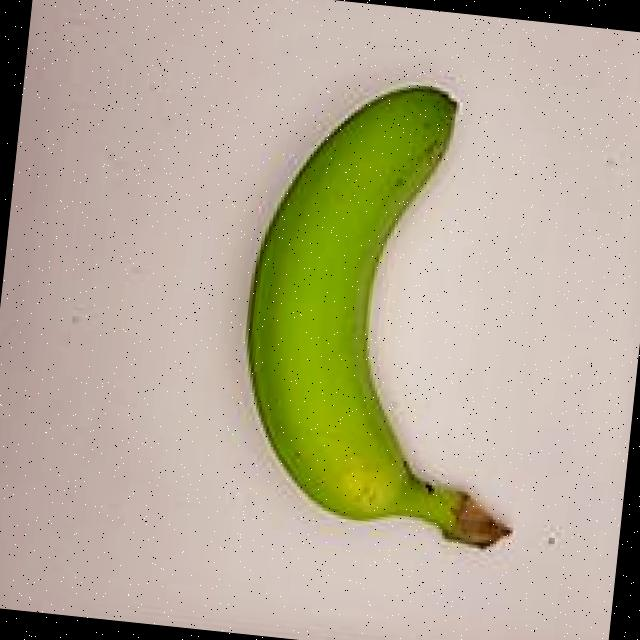Unripe: (208, 52, 579, 574)
